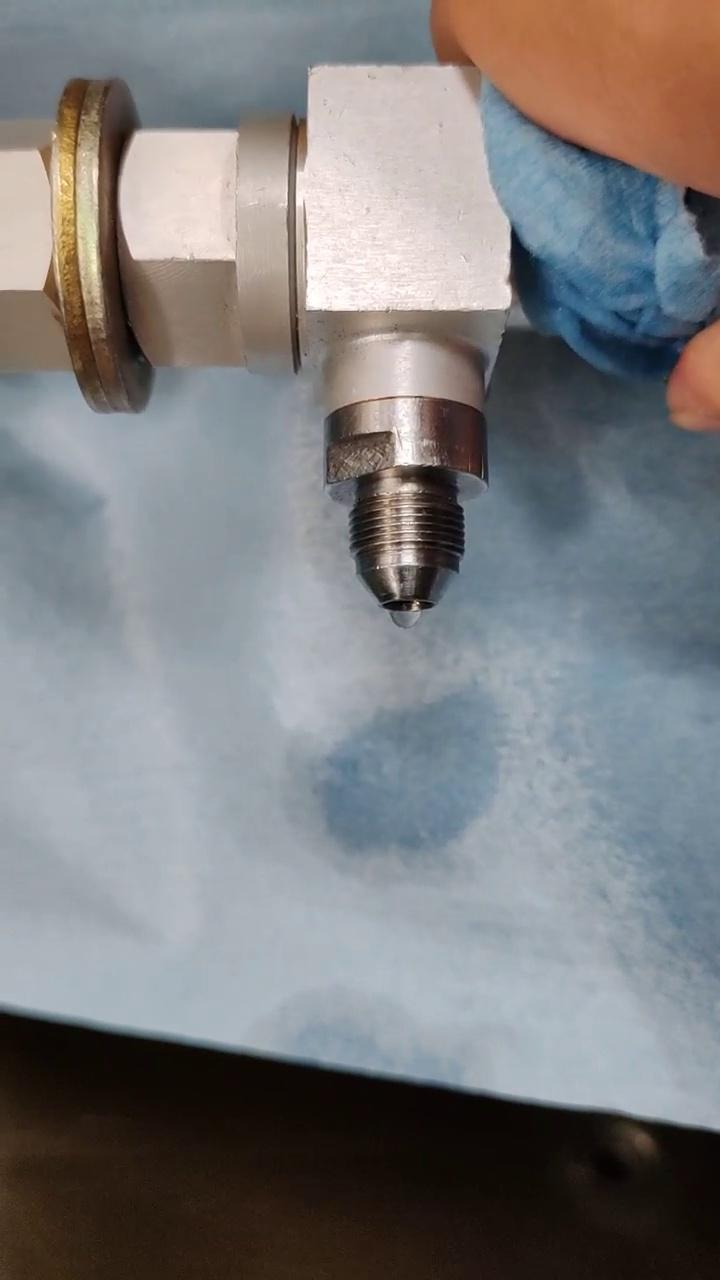water drop: (389, 604, 420, 628)
